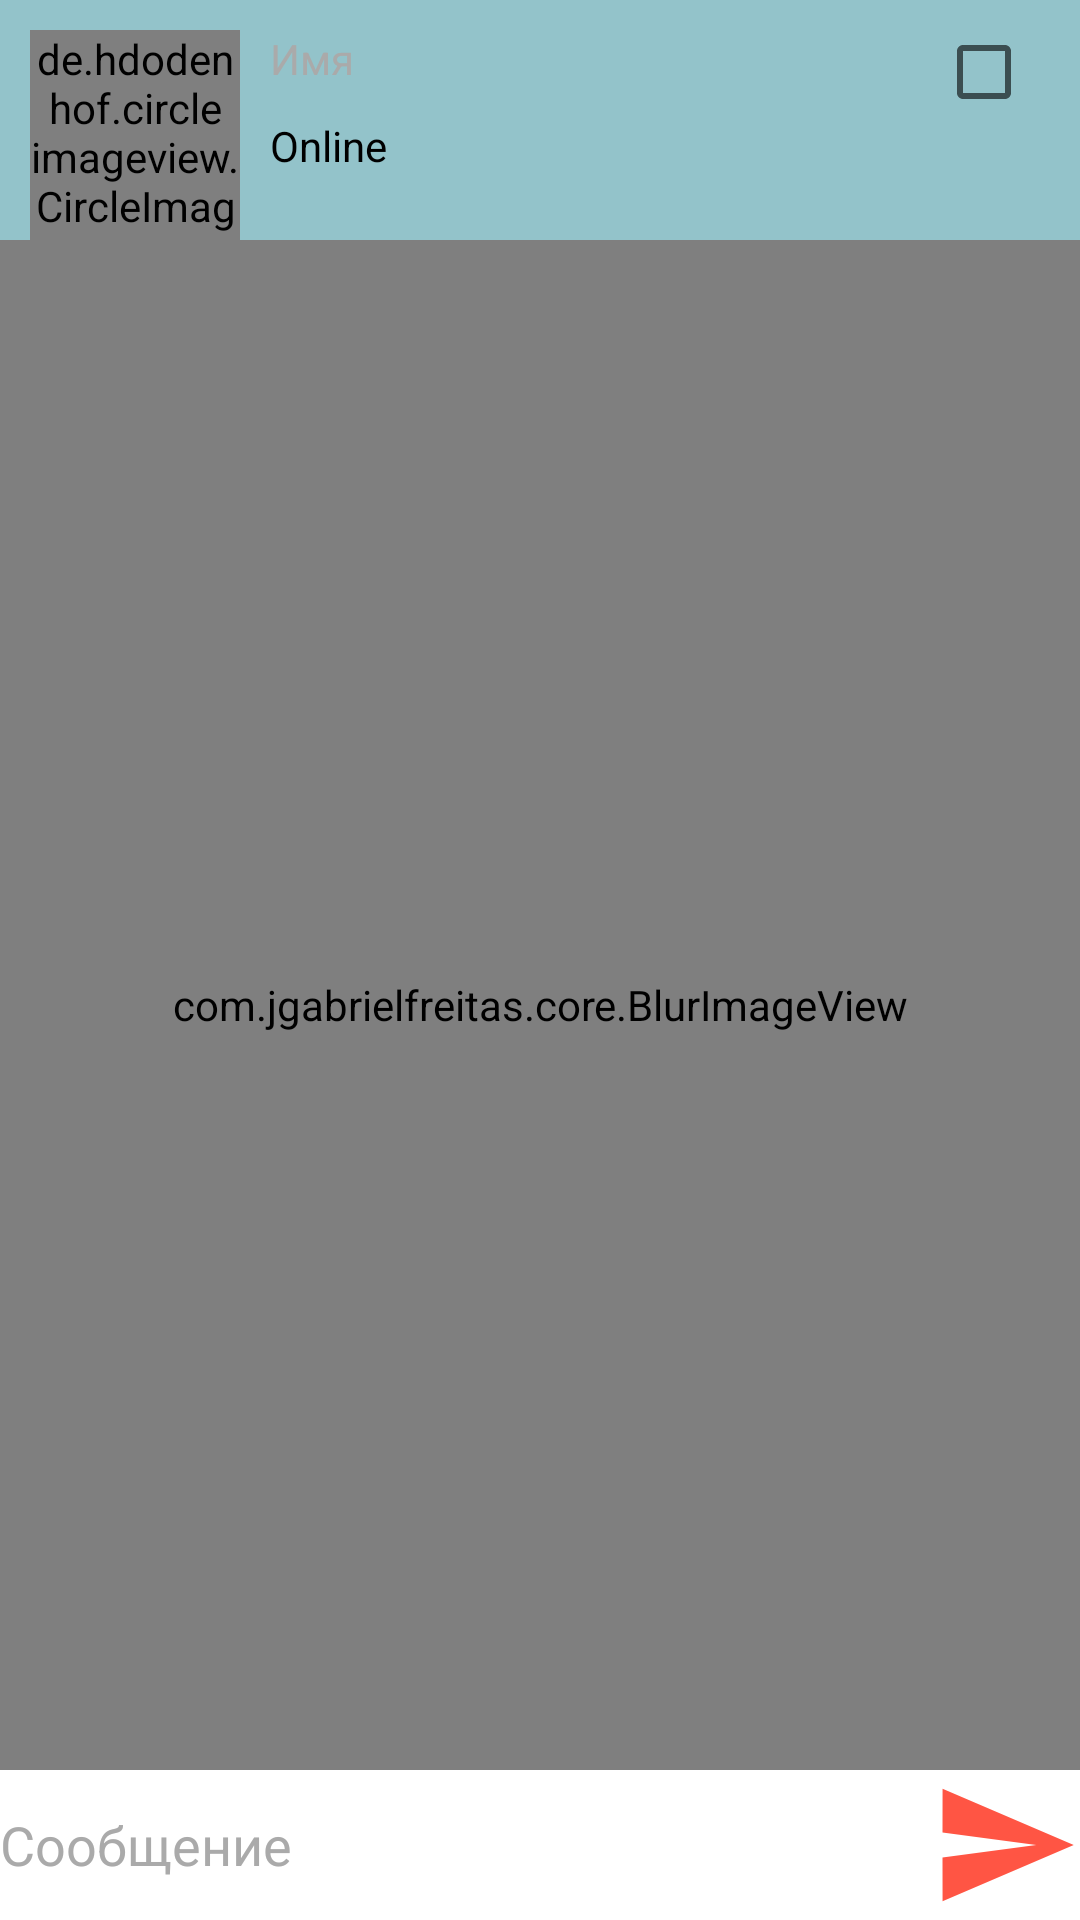

Screen size 1080*1920. Icon name, then its center in pixels as (x=x, y=y):
send: (x=1007, y=1845)
